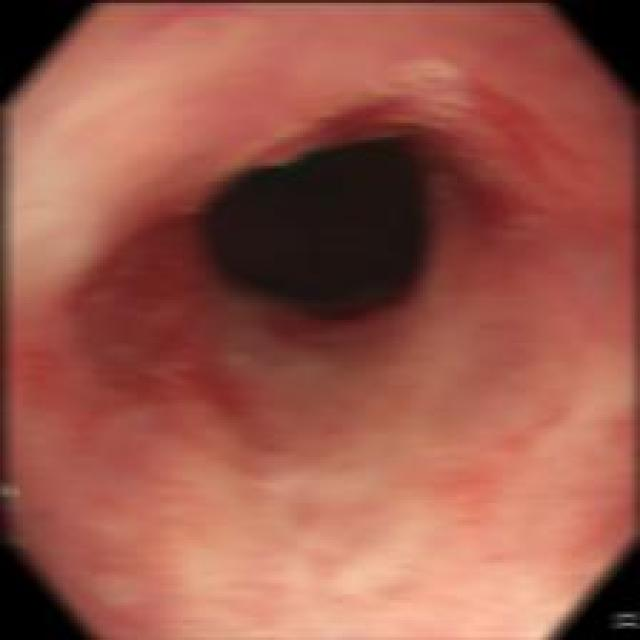color misalignment: (255, 138, 308, 172)
contrast: (196, 126, 464, 329)
